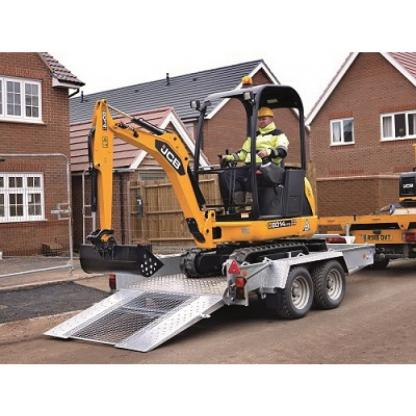excavator: (53, 77, 332, 277)
